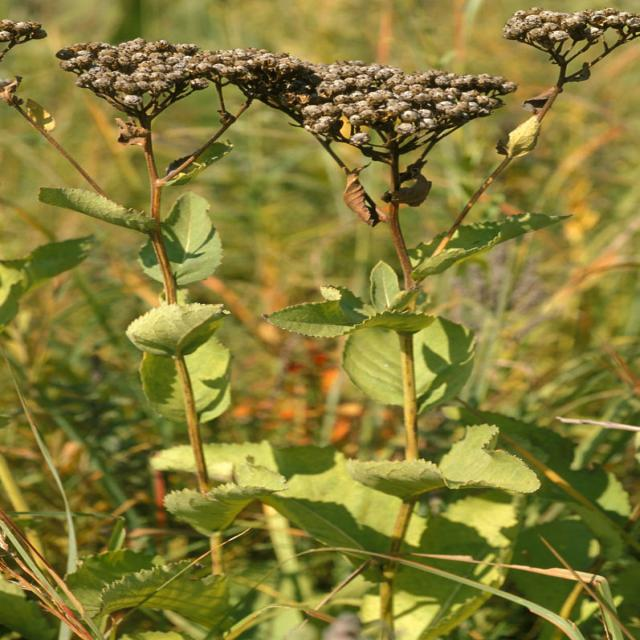Poisonous-Parthenium: (4, 0, 640, 411)
